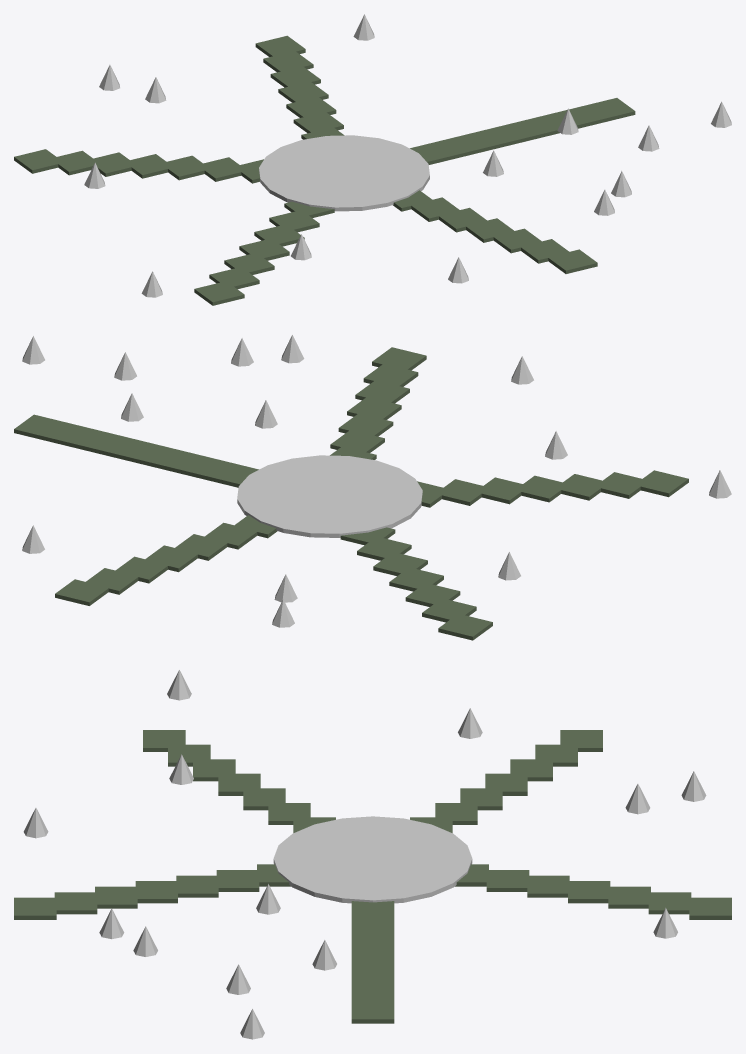
The model's file is layout_main.obj.
3 renders of one model, top to bottom at view 1: azimuth 30°, elevation 25°; view 2: azimuth 150°, elevation 25°; view 3: azimuth 270°, elevation 25°, orthographic. The views are drawn at different scales.
Parts seen in each view (by area): view 1: paths, plaza, scatter; view 2: paths, plaza, scatter; view 3: paths, plaza, scatter.
Boxes of the visible parts, x1,y1,x2,y2 form: paths: (14,35,635,305); plaza: (259,135,429,211); scatter: (84,14,731,297); paths: (14,347,688,640); plaza: (237,455,422,537); scatter: (22,335,731,627); paths: (14,730,731,1023); plaza: (273,816,472,903); scatter: (23,670,706,1039).
Bounding box in the file's own units: 58.2 × 3.08 × 50.56.
